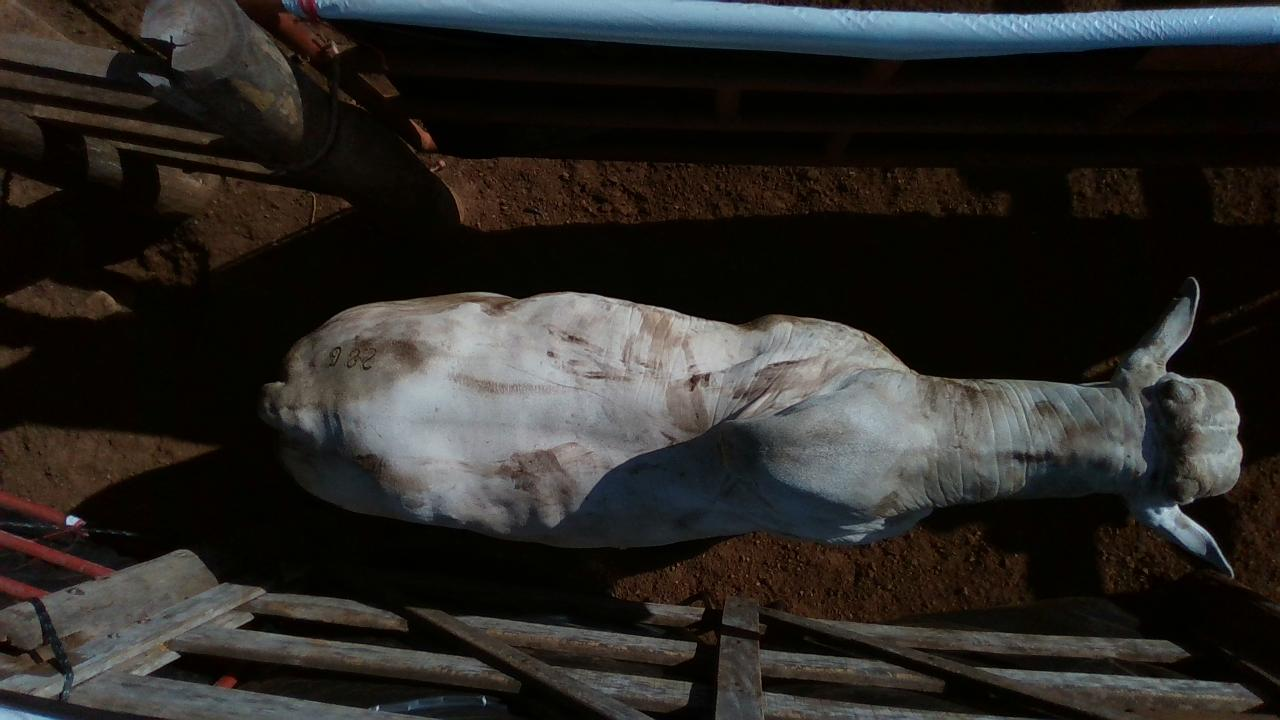cattle: (257, 274, 1244, 579)
